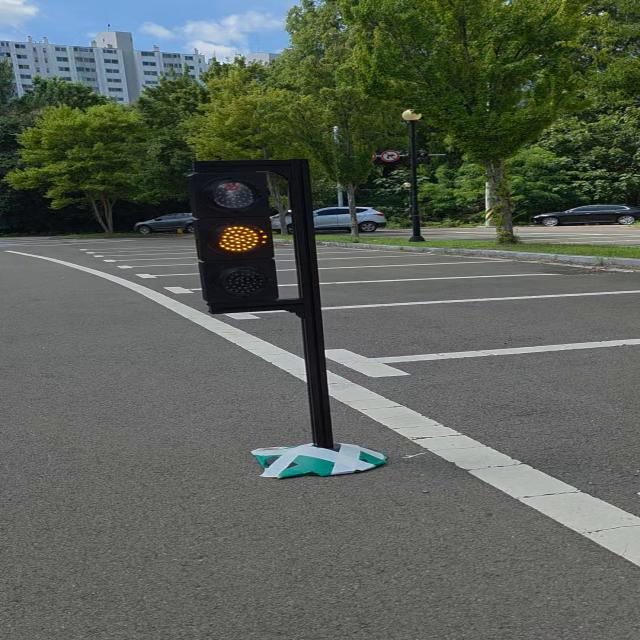yellow: (178, 157, 302, 328)
